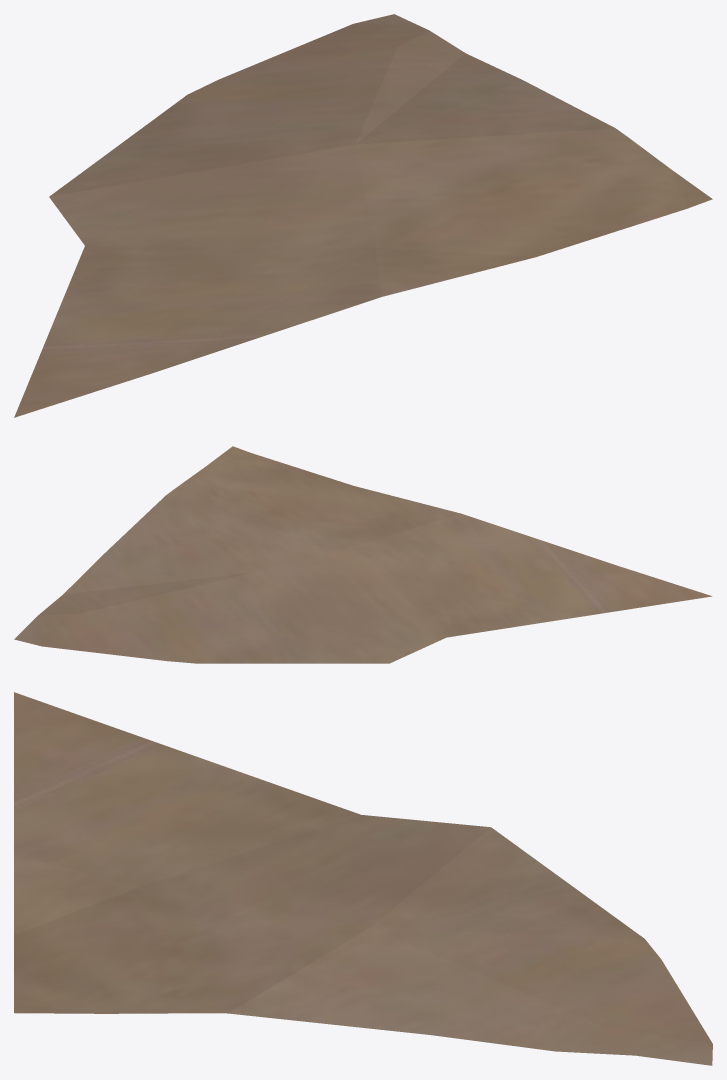
The picture shows the model from 3 angles, top to bottom: view 1: azimuth 30°, elevation 25°; view 2: azimuth 150°, elevation 25°; view 3: azimuth 270°, elevation 25°; orthographic projection. The views are drawn at different scales.
Bounding box in the file's own units: 0.5342 × 0.0351 × 0.4222.
1 material, 1 textured.
